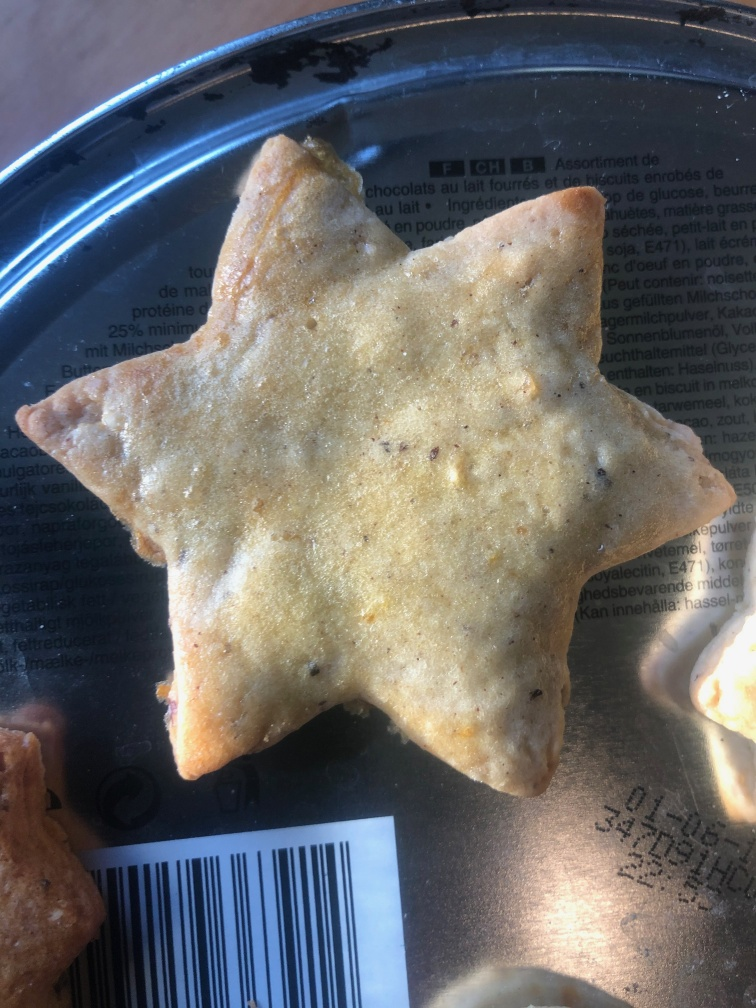star: (15, 132, 727, 805)
